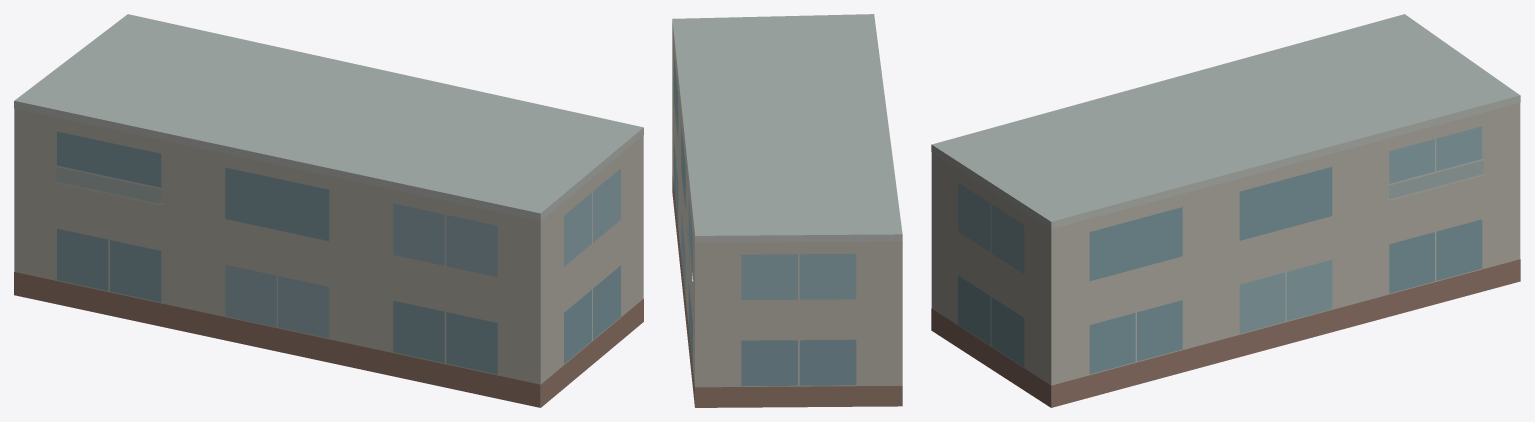
File: survey-upis-32910529.glb
3 views of the same model, side by side, from view 1: azimuth 30°, elevation 25°; view 2: azimuth 150°, elevation 25°; view 3: azimuth 270°, elevation 25° (orthographic). The views are drawn at different scales.
Visible parts, largest first — view 1: survey-upis-32910529.tmp; view 2: survey-upis-32910529.tmp; view 3: survey-upis-32910529.tmp.
Part boxes in pixels (<box>): survey-upis-32910529.tmp: <box>14,14,643,407</box>; survey-upis-32910529.tmp: <box>672,14,902,407</box>; survey-upis-32910529.tmp: <box>931,14,1520,407</box>.
Bounding box in the file's own units: 14.62 × 6.1 × 17.51.
